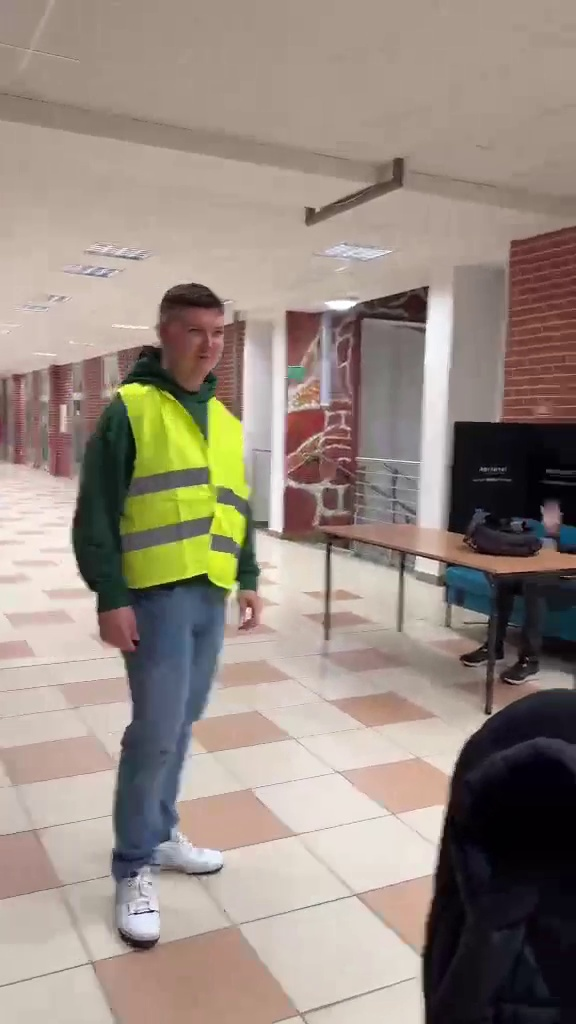vest: (74, 270, 265, 951)
